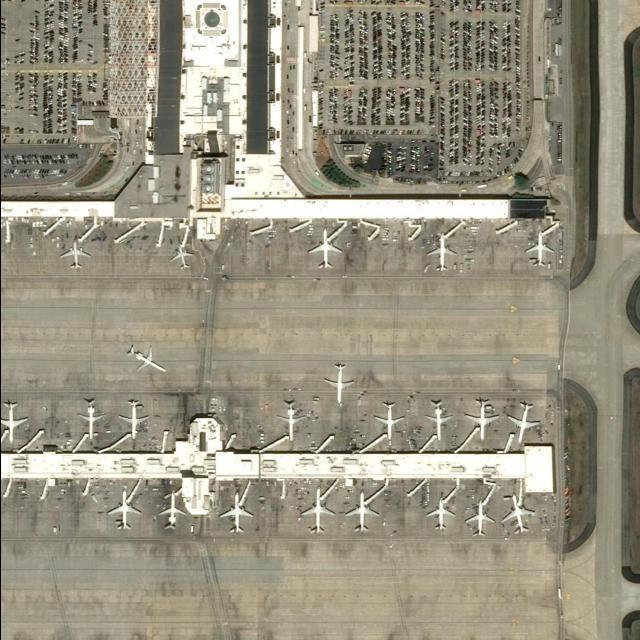Aircraft: (304, 226, 344, 270), (298, 487, 335, 534), (340, 490, 379, 533), (461, 396, 497, 440), (103, 489, 140, 531), (216, 491, 252, 533), (370, 400, 404, 444), (115, 398, 151, 439), (505, 401, 539, 443), (500, 493, 534, 535), (275, 398, 308, 441), (74, 396, 106, 440), (321, 362, 353, 405), (462, 498, 495, 539), (421, 396, 451, 441), (155, 488, 187, 530), (422, 233, 456, 271), (422, 495, 456, 533), (124, 343, 166, 373), (0, 400, 28, 443), (56, 237, 92, 270), (522, 228, 552, 266), (166, 243, 194, 269)
